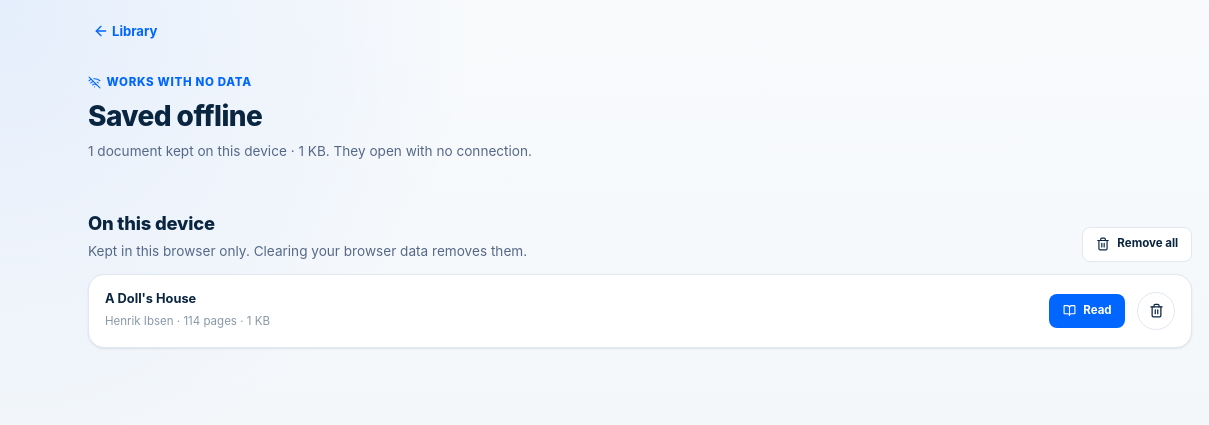
Test: The offline page › lists a saved document and can forget it
The image size is (1209, 425).
Expected: the text "A Doll's House" is shown, [105, 291, 196, 306]
Expected: the text "Henrik Ibsen · 114 pages · 1 KB" is shown, [105, 314, 270, 328]
Step 1. Click the button named "Remove A Doll's House from this device" → click(1156, 311), box [1137, 292, 1175, 330]
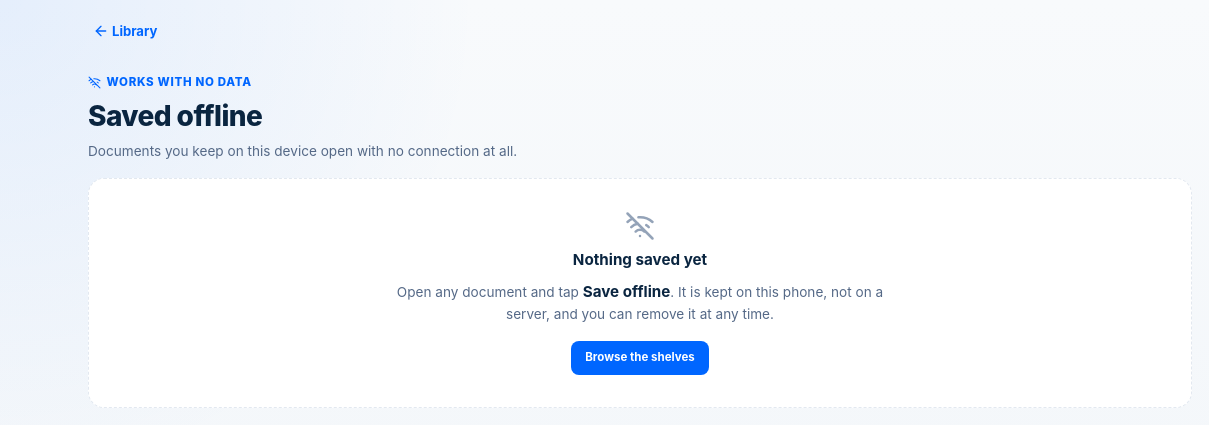
Now the text "A Doll's House" is gone
